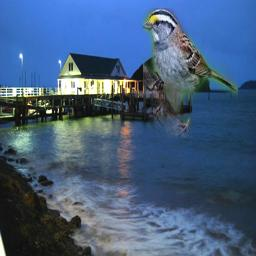Sparrow: (143, 8, 238, 138)
